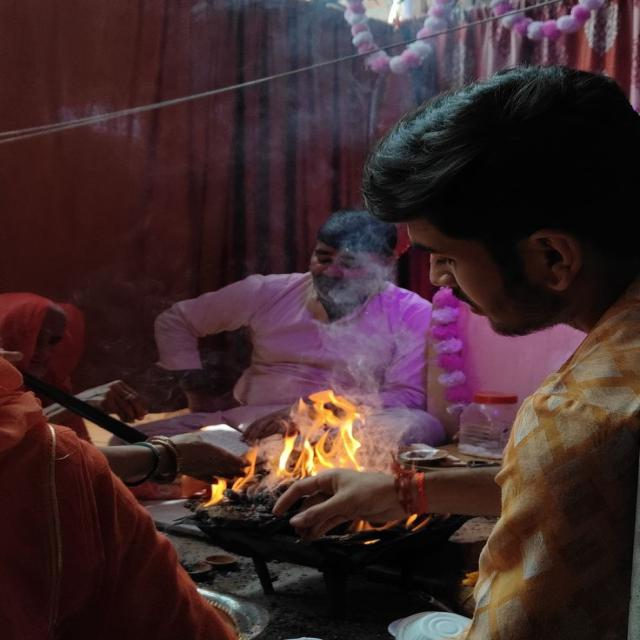fire: (234, 388, 365, 496), (348, 513, 420, 531)
